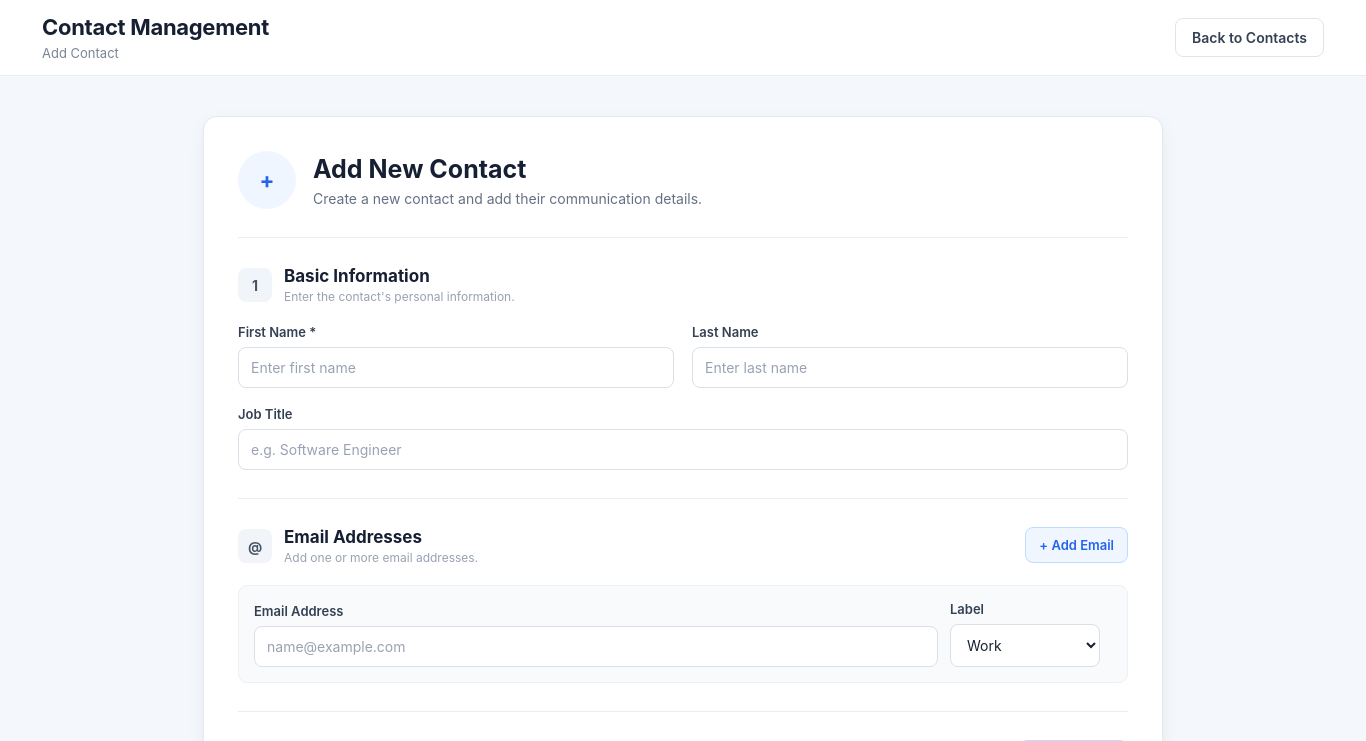
Test case: AddContact › shows phone validation error
Type "John" into the field labelled "First Name *".
click(456, 368); type("John")  # box top-left (238, 347), bottom-right (674, 388)
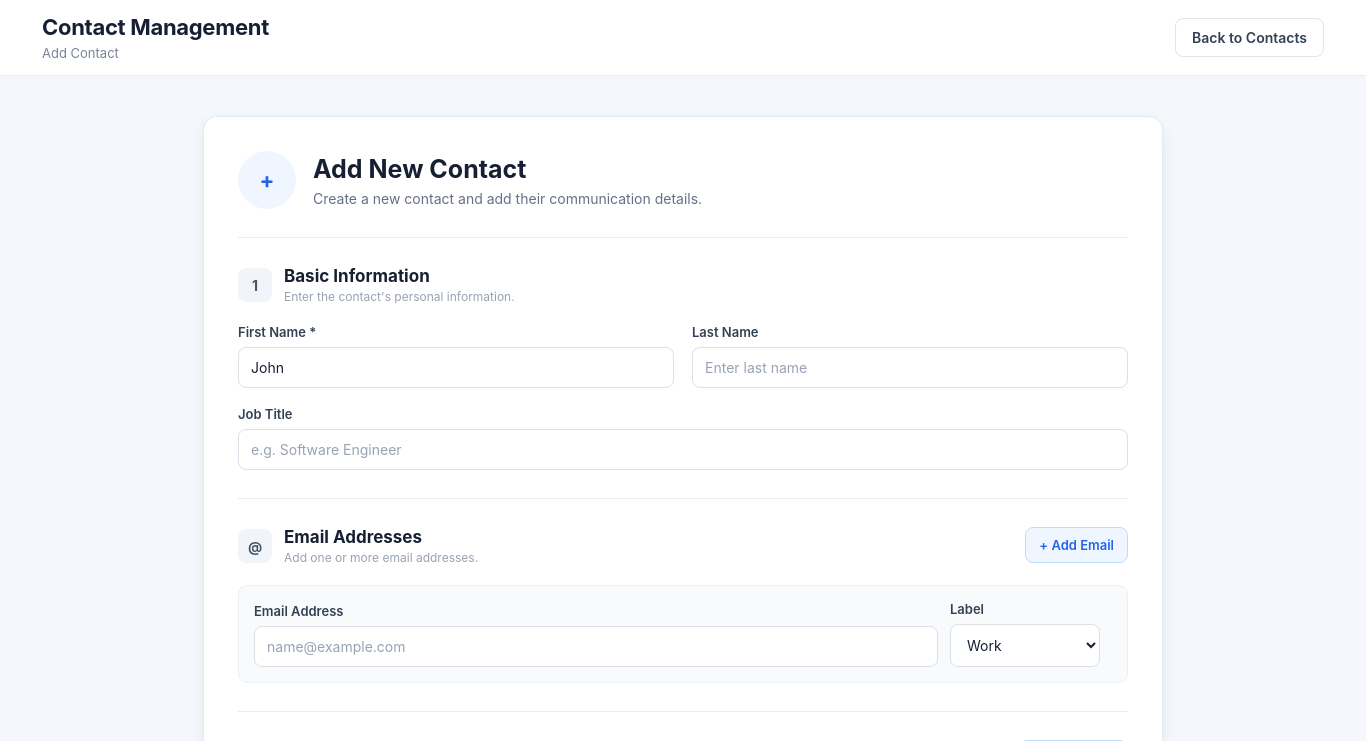
Type "john@example.com" into the field labelled "Email Address".
click(596, 646); type("john@example.com")  # box top-left (254, 626), bottom-right (938, 667)
(page scrolled)
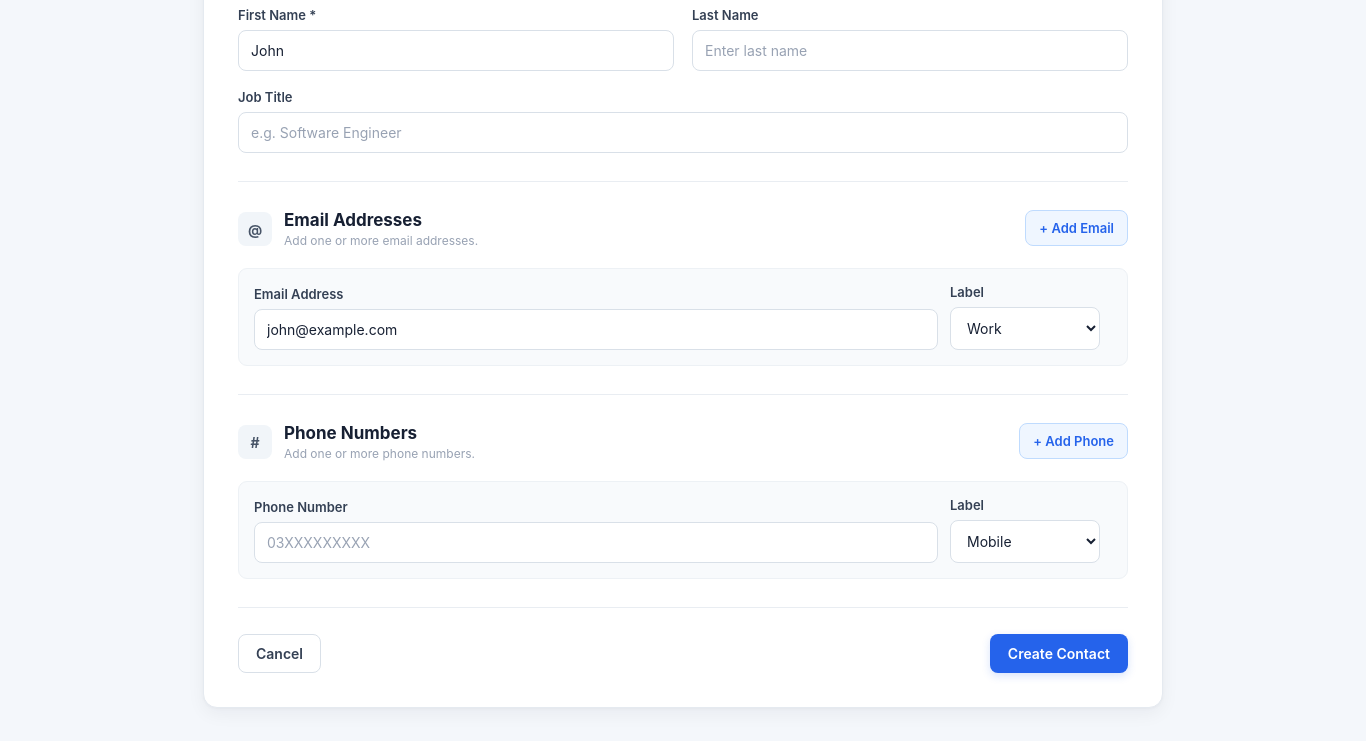
Click the button "Create Contact".
click(1059, 654)  # box top-left (990, 634), bottom-right (1128, 673)
(page scrolled)
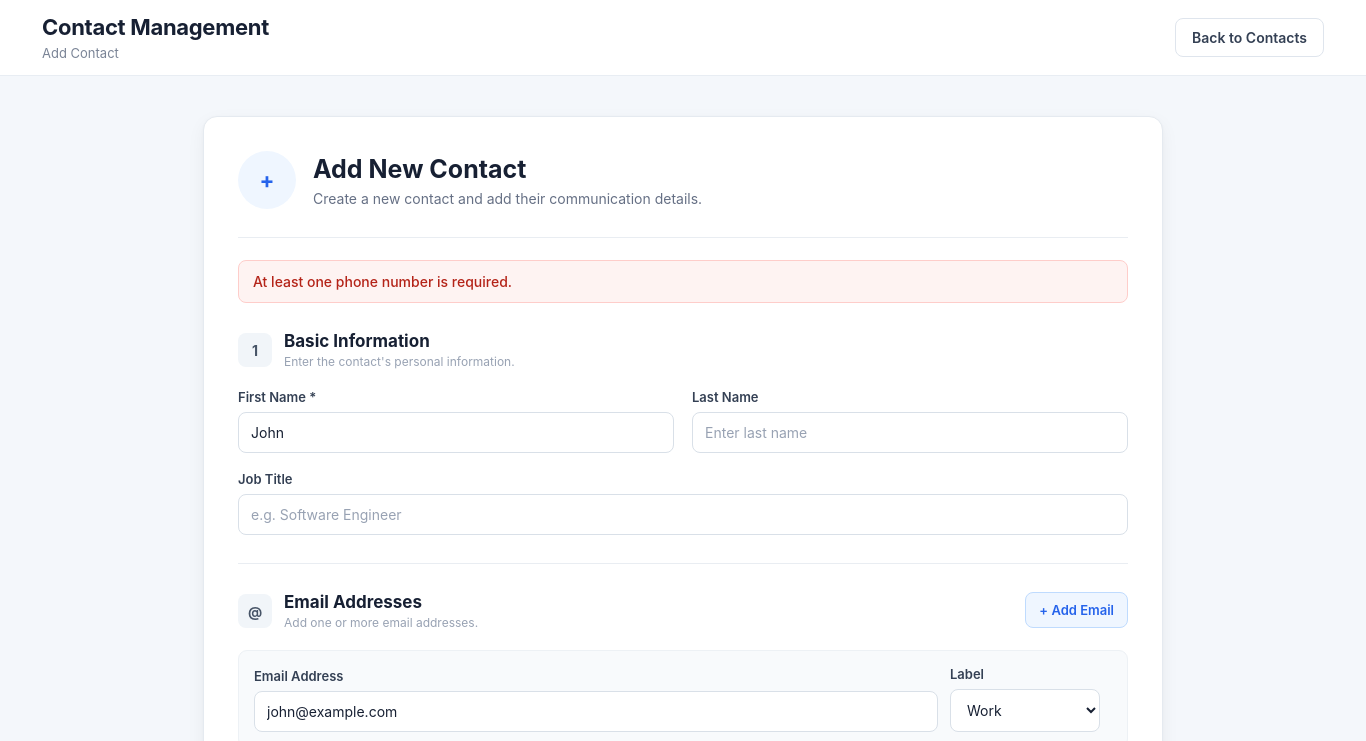
Expected: the text "At least one phone number is required." is shown, top-left (238, 260), bottom-right (1128, 303)
